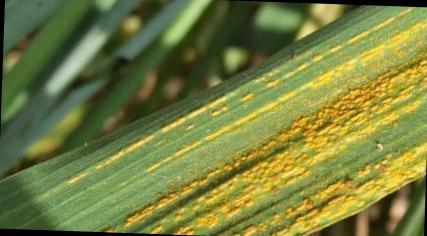Wheat: (157, 133, 365, 202), (368, 8, 425, 171), (124, 205, 339, 236), (294, 50, 364, 130)
